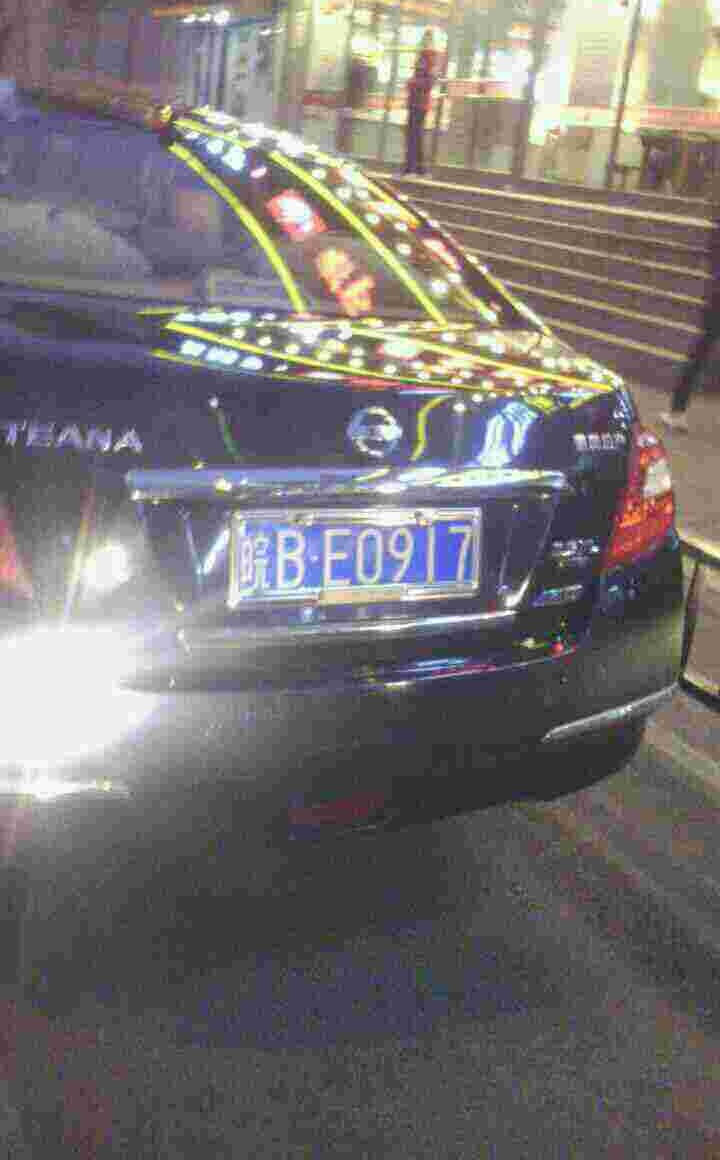license_plate: (233, 515, 482, 597)
